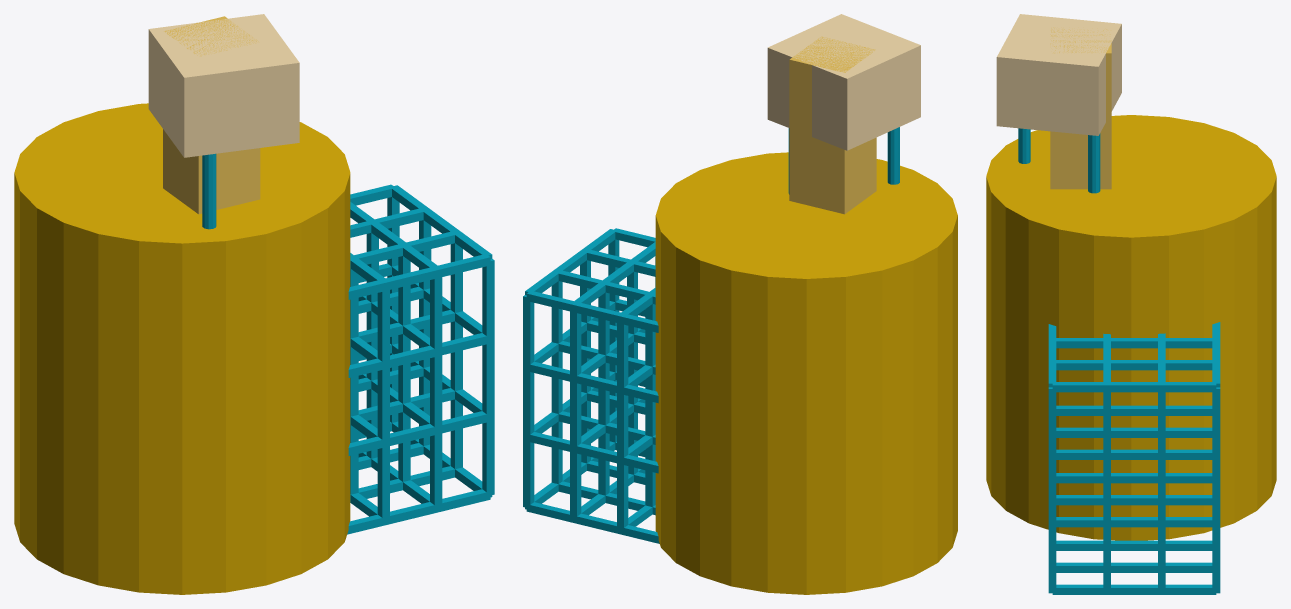
Rendered from folie_tag_013.glb.
The picture shows the model from 3 angles, left to right: view 1: azimuth 30°, elevation 25°; view 2: azimuth 150°, elevation 25°; view 3: azimuth 270°, elevation 25°; orthographic projection. The views are drawn at different scales.
Visible parts, largest first — view 1: folie_tag_013_00_drum, folie_tag_013_01_cage, folie_tag_013_02_block, folie_tag_013_core, folie_tag_013_line; view 2: folie_tag_013_00_drum, folie_tag_013_01_cage, folie_tag_013_02_block, folie_tag_013_core, folie_tag_013_line; view 3: folie_tag_013_00_drum, folie_tag_013_01_cage, folie_tag_013_02_block, folie_tag_013_core, folie_tag_013_line.
Boxes of the visible parts, box(x1,y1,x2,y2) form: folie_tag_013_00_drum: box(14, 103, 350, 594); folie_tag_013_01_cage: box(347, 184, 494, 534); folie_tag_013_02_block: box(148, 14, 299, 157); folie_tag_013_core: box(163, 16, 260, 214); folie_tag_013_line: box(202, 153, 216, 229); folie_tag_013_00_drum: box(655, 152, 957, 594); folie_tag_013_01_cage: box(523, 228, 659, 543); folie_tag_013_02_block: box(767, 14, 920, 150); folie_tag_013_core: box(789, 36, 876, 214); folie_tag_013_line: box(788, 127, 899, 194); folie_tag_013_00_drum: box(986, 115, 1276, 540); folie_tag_013_01_cage: box(1048, 322, 1220, 594); folie_tag_013_02_block: box(996, 14, 1121, 135); folie_tag_013_core: box(1050, 27, 1111, 189); folie_tag_013_line: box(1018, 128, 1100, 193).
Size of the model in its own units: 7.32 by 8.75 by 5.2.
